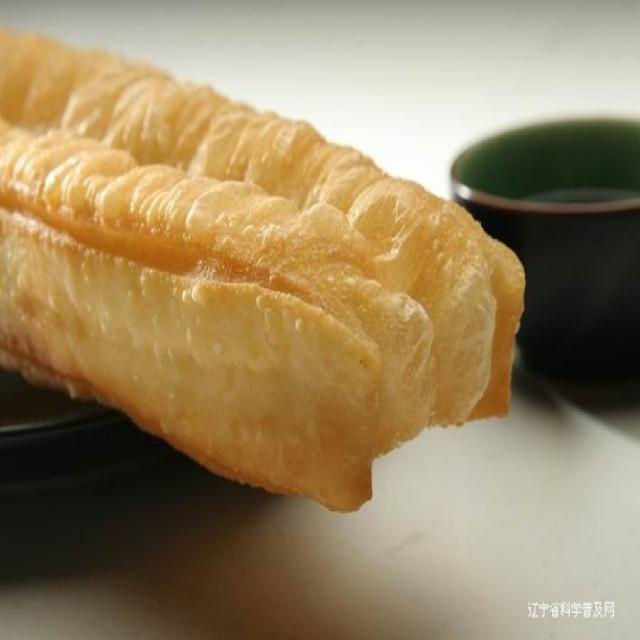炸货点心: (16, 21, 546, 534)
